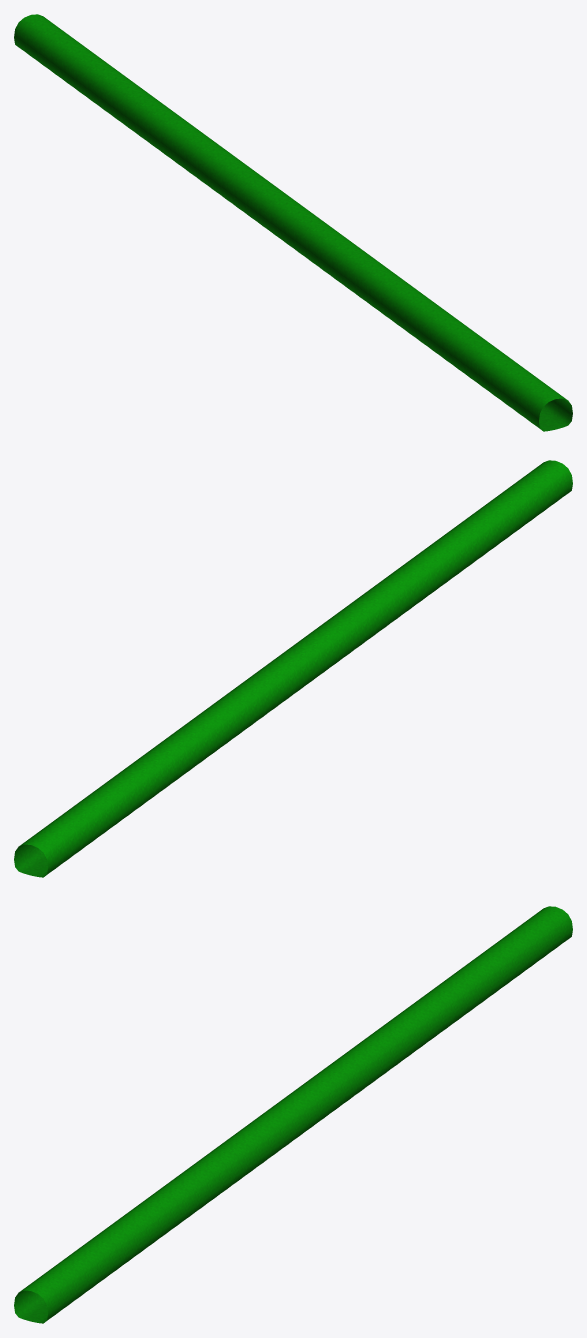
Rendered from BushShort.fbx.
3 views of the same model, one above another, from view 1: azimuth 30°, elevation 25°; view 2: azimuth 150°, elevation 25°; view 3: azimuth 330°, elevation 25° (orthographic).
Visible parts, largest first — view 1: Bush1; view 2: Bush1; view 3: Bush1.
Part boxes in pixels (box(x1,y1,x2,y2)): Bush1: box(14, 14, 572, 431); Bush1: box(14, 460, 572, 877); Bush1: box(14, 906, 572, 1323).
Size of the model in its own units: 77.33 by 66.22 by 2062.
